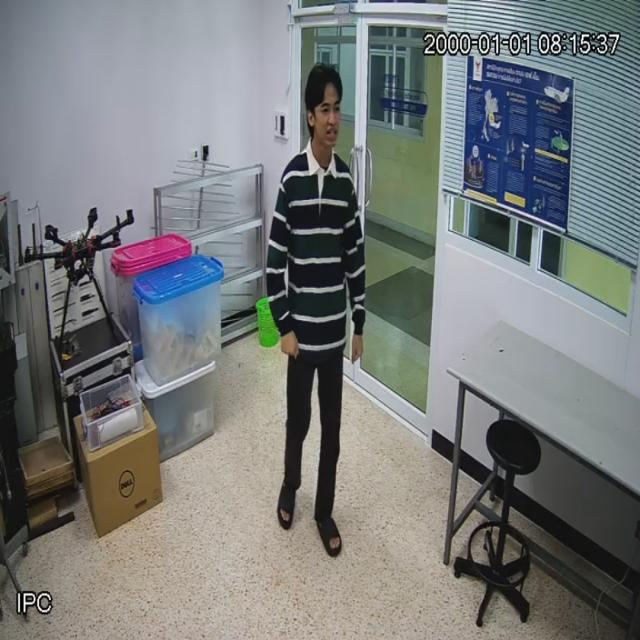normal: (266, 62, 367, 550)
